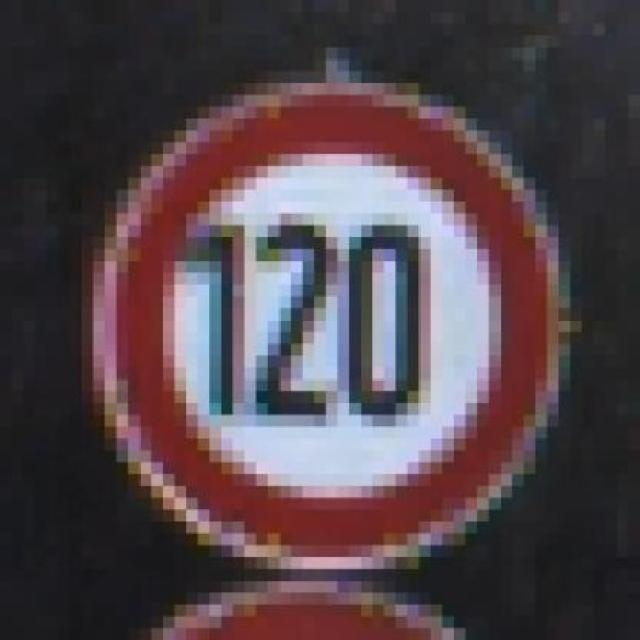forb_speed_over_120: (105, 86, 559, 560)
